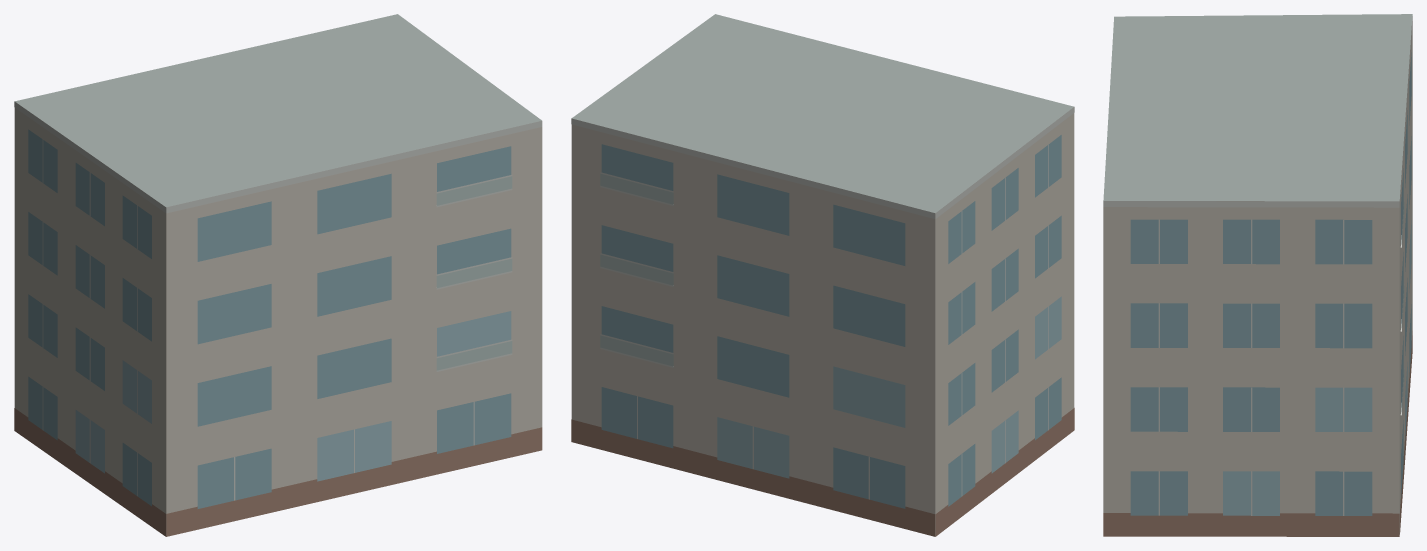
The model's file is survey-upis-32646096.glb.
3 views of the same model, side by side, from view 1: azimuth 30°, elevation 25°; view 2: azimuth 150°, elevation 25°; view 3: azimuth 270°, elevation 25° (orthographic). The views are drawn at different scales.
Visible parts, largest first — view 1: survey-upis-32646096.tmp; view 2: survey-upis-32646096.tmp; view 3: survey-upis-32646096.tmp.
Boxes of the visible parts, x1=… form: survey-upis-32646096.tmp: x1=14, y1=14, x2=542, y2=536; survey-upis-32646096.tmp: x1=571, y1=14, x2=1074, y2=536; survey-upis-32646096.tmp: x1=1103, y1=14, x2=1412, y2=536.
Size of the model in its own units: 15.81 by 13.2 by 11.04.
